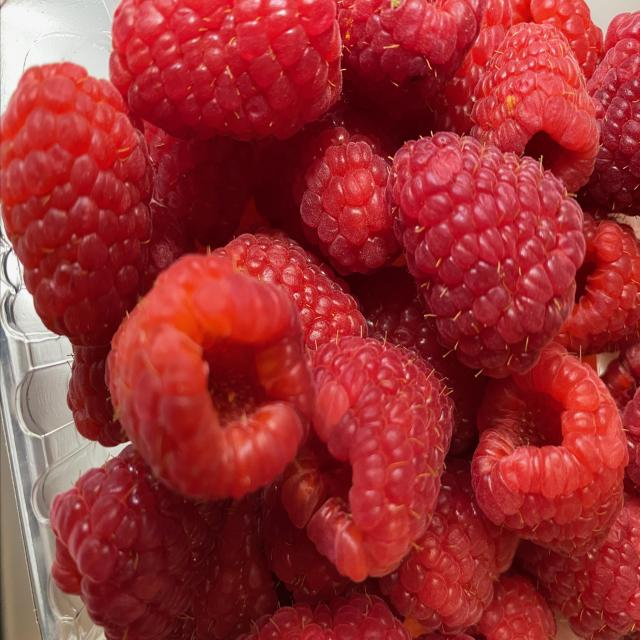Raspberry: (18, 28, 628, 630)
